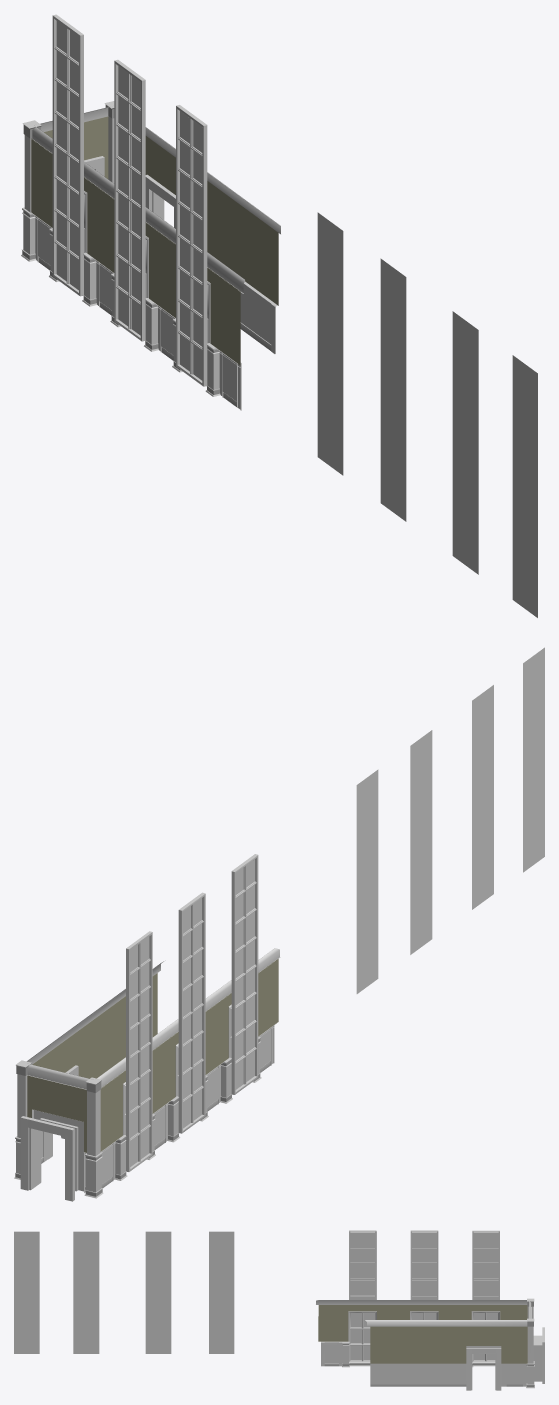
Rendered from SM_H_Building_Tide_WardenOffice_05I_ATLAS.fbx.
3 views of the same model, one above another, from view 1: azimuth 30°, elevation 25°; view 2: azimuth 150°, elevation 25°; view 3: azimuth 270°, elevation 25° (orthographic). The views are drawn at different scales.
Parts seen in each view (by area): view 1: SM_H_Building_Tide_WardenOffice_05I_ATLAS; view 2: SM_H_Building_Tide_WardenOffice_05I_ATLAS; view 3: SM_H_Building_Tide_WardenOffice_05I_ATLAS.
Part boxes in pixels (x1,y1,x2,y2): SM_H_Building_Tide_WardenOffice_05I_ATLAS: [21, 14, 537, 617]; SM_H_Building_Tide_WardenOffice_05I_ATLAS: [14, 647, 544, 1201]; SM_H_Building_Tide_WardenOffice_05I_ATLAS: [14, 1230, 544, 1390].
Size of the model in its own units: 391 by 3312 by 920.
